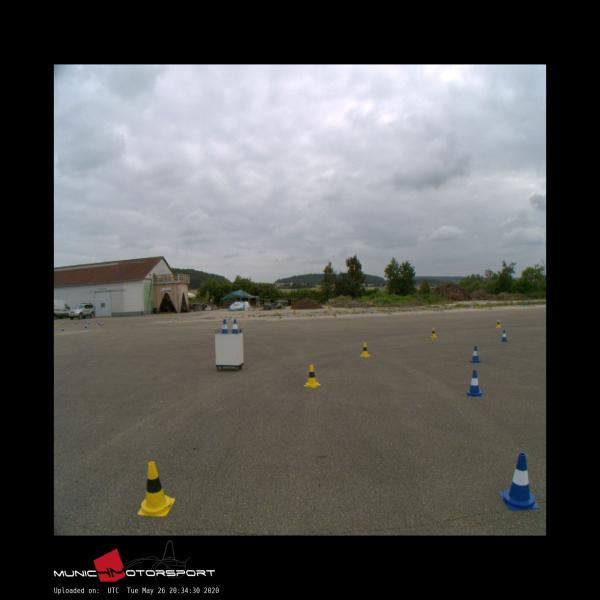blue_cone: (499, 453, 539, 509), (466, 370, 482, 396), (471, 346, 480, 362), (230, 319, 239, 333), (220, 319, 228, 333), (501, 329, 507, 341), (84, 324, 88, 328), (61, 326, 64, 331), (102, 321, 105, 325), (75, 320, 78, 324), (100, 321, 102, 326), (98, 320, 100, 324), (88, 321, 90, 324)
yellow_cone: (137, 461, 175, 516), (303, 364, 321, 388), (360, 342, 370, 357), (430, 326, 436, 337), (496, 318, 502, 327), (55, 322, 57, 326), (62, 323, 64, 327)
